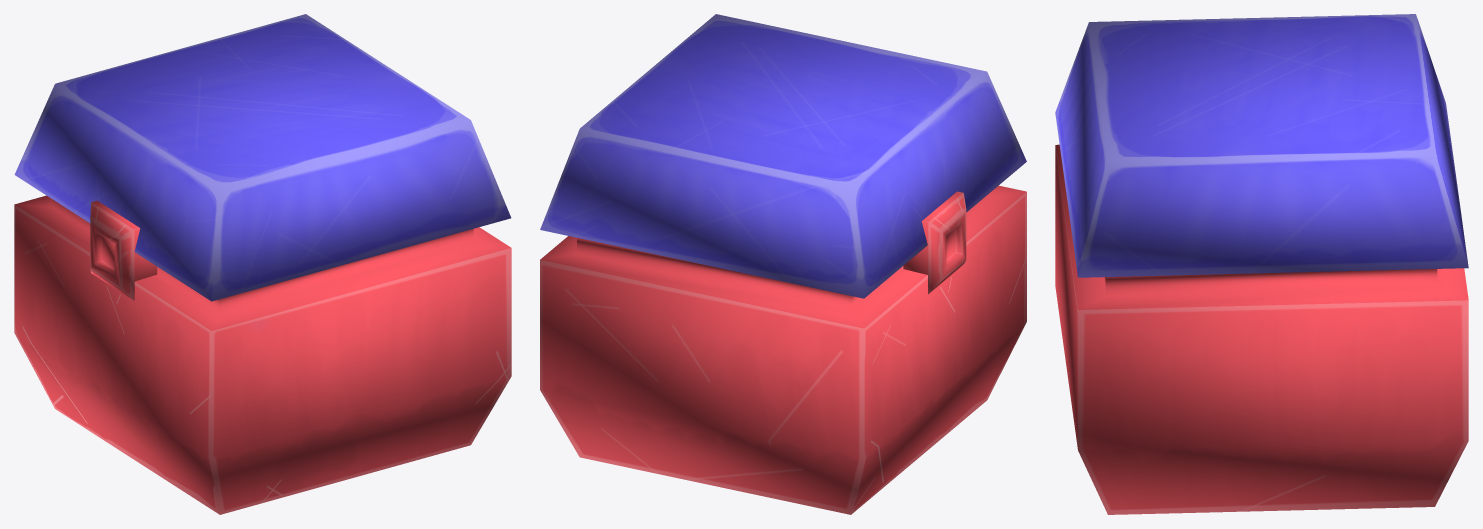
Rendered from CrateWithAnimation.fbx.
3 views of the same model, side by side, from view 1: azimuth 30°, elevation 25°; view 2: azimuth 150°, elevation 25°; view 3: azimuth 270°, elevation 25° (orthographic). The views are drawn at different scales.
Visible parts, largest first — view 1: Cube; view 2: Cube; view 3: Cube.
Part boxes in pixels (x1=…): Cube: x1=14, y1=14, x2=511, y2=514; Cube: x1=540, y1=14, x2=1026, y2=514; Cube: x1=1055, y1=14, x2=1468, y2=514.
Size of the model in its own units: 212 by 200 by 211.
